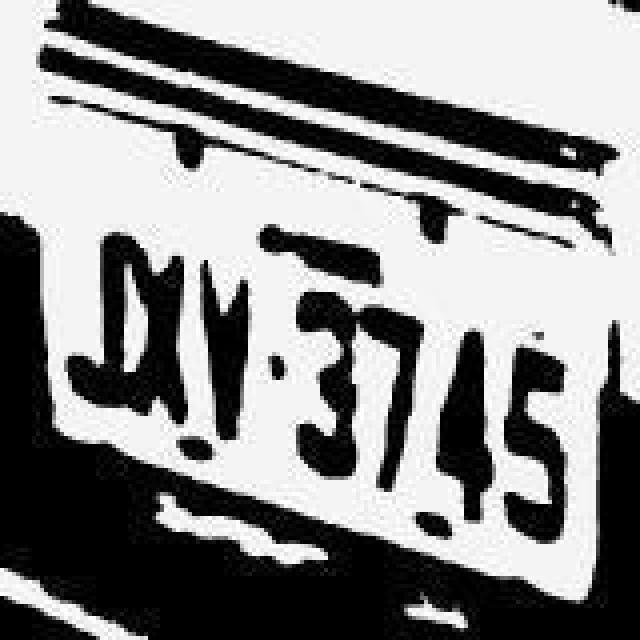3: (288, 286, 360, 490)
4: (434, 308, 502, 532)
5: (500, 340, 572, 556)
7: (358, 296, 426, 488)
J: (56, 184, 128, 408)
V: (196, 250, 260, 446)
X: (130, 194, 198, 422)
